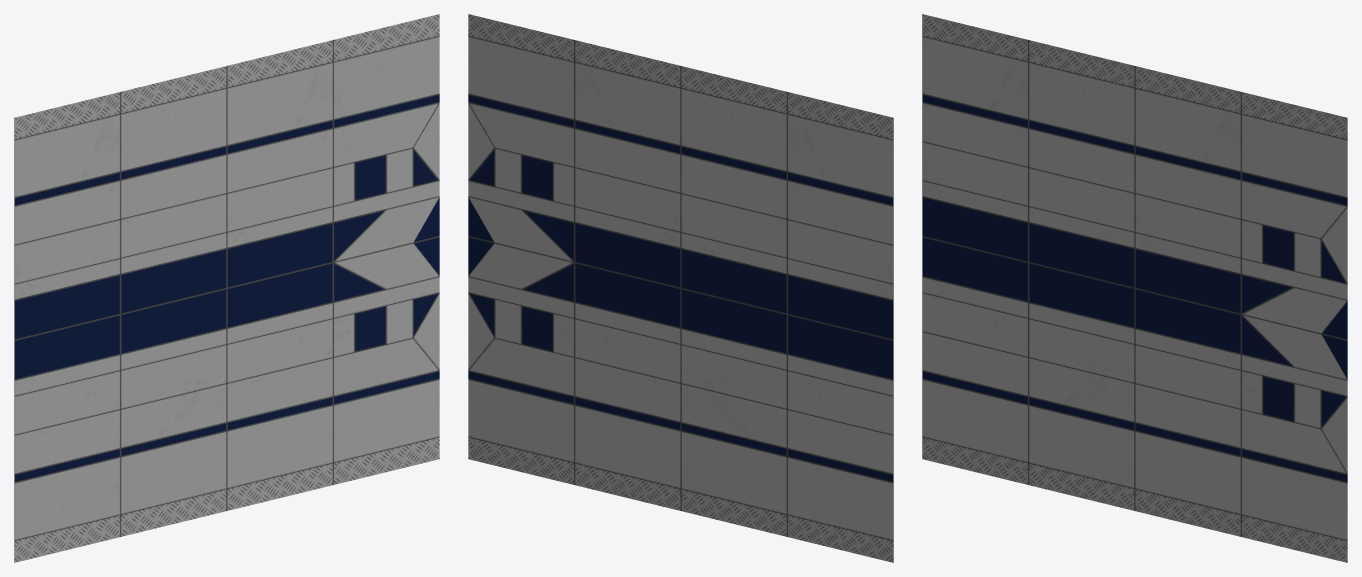
The model's file is hub wall finaldx.fbx.
The picture shows the model from 3 angles, left to right: view 1: azimuth 30°, elevation 25°; view 2: azimuth 150°, elevation 25°; view 3: azimuth 330°, elevation 25°; orthographic projection.
Parts seen in each view (by area): view 1: hub_wall_finaldx; view 2: hub_wall_finaldx; view 3: hub_wall_finaldx.
Part boxes in pixels (x1,y1,x2,y2): hub_wall_finaldx: (14,14,439,562); hub_wall_finaldx: (468,14,893,562); hub_wall_finaldx: (922,14,1347,562).
Size of the model in its own units: 200 by 200 by 1.45e-05.
